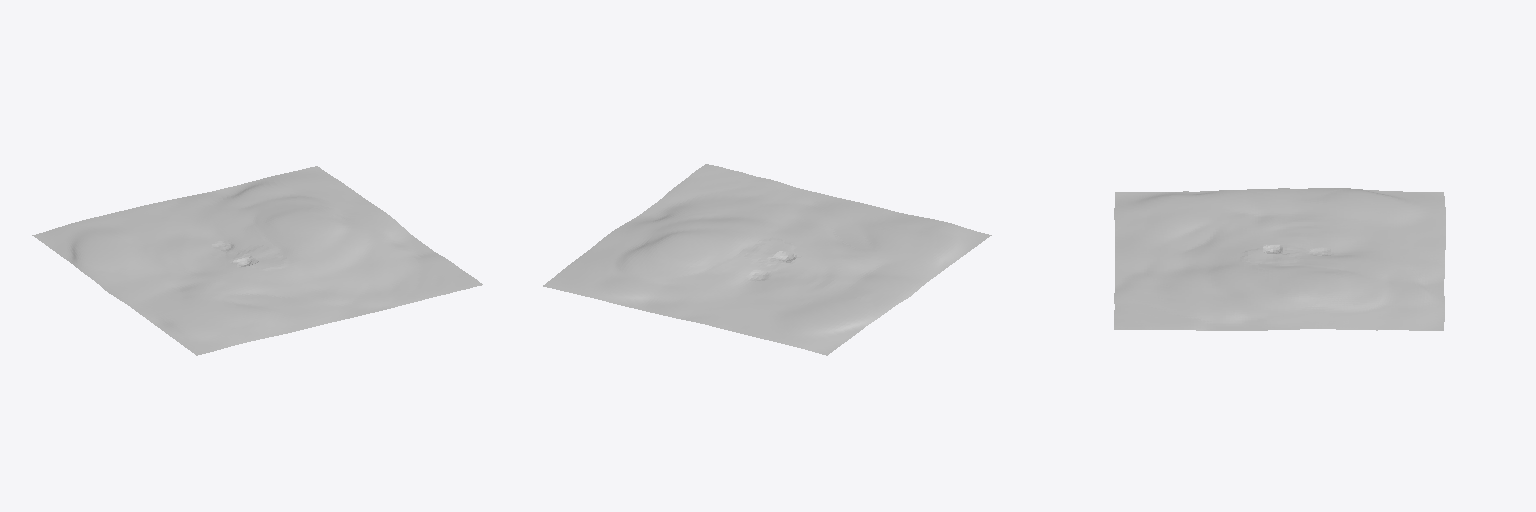
The model's file is floor.obj.
The picture shows the model from 3 angles: view 1: azimuth 30°, elevation 25°; view 2: azimuth 150°, elevation 25°; view 3: azimuth 270°, elevation 25°; orthographic projection.
Visible parts, largest first — view 1: Plane; view 2: Plane; view 3: Plane.
Boxes of the visible parts, box(x1,y1,x2,y2) form: Plane: box(32, 166, 482, 355); Plane: box(543, 164, 991, 355); Plane: box(1114, 188, 1445, 330).
Bounding box in the file's own units: 67.16 × 2.23 × 66.66.